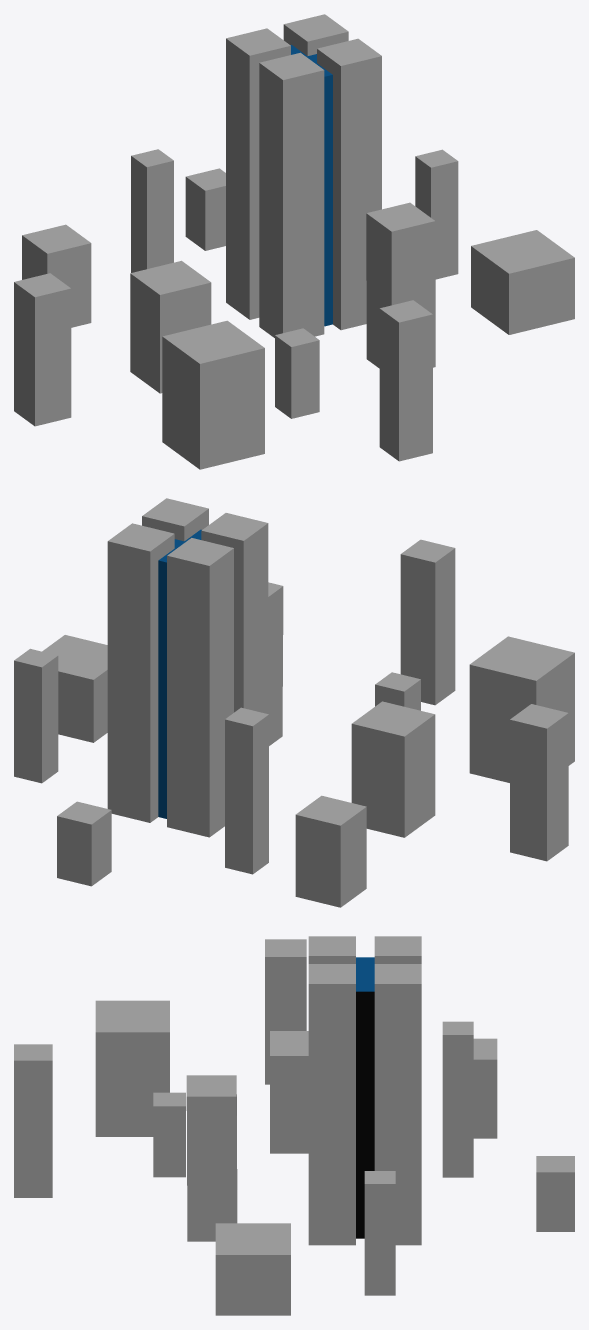
The model's file is Battery.fbx.
3 renders of one model, top to bottom at view 1: azimuth 30°, elevation 25°; view 2: azimuth 150°, elevation 25°; view 3: azimuth 270°, elevation 25°, orthographic. The views are drawn at different scales.
Parts seen in each view (by area): view 1: Server, Server6, Server8, Server9, Server1, Server4, Server2, Server3, Server7, Server10, Server5, Server11 (+1 smaller); view 2: Server, Server6, Server2, Server9, Server1, Server7, Server3, Server10, Server8, Server11, Heart, Server4 (+1 smaller); view 3: Server, Server6, Server4, Server8, Server1, Server3, Server2, Heart, Server9, Server10, Server11, Server5 (+1 smaller).
Boxes of the visible parts, x1,y1,x2,y2 form: Server: (226,14,381,337); Server6: (162,320,264,469); Server8: (471,230,574,334); Server9: (14,273,71,426); Server1: (379,300,432,461); Server4: (366,202,435,368); Server2: (130,260,211,393); Server3: (131,149,173,272); Server7: (22,224,91,327); Server10: (415,149,458,279); Server5: (275,328,319,418); Server11: (185,168,225,250); Server: (107,498,268,837); Server6: (469,636,574,782); Server2: (351,701,435,837); Server9: (510,704,568,861); Server1: (400,539,455,705); Server7: (295,795,366,907); Server3: (225,707,268,874); Server10: (14,648,58,783); Server8: (42,635,107,742); Server11: (57,801,111,886); Heart: (158,529,201,818); Server4: (268,582,283,745); Server: (308,936,421,1245); Server6: (95,1000,169,1136); Server4: (186,1075,237,1241); Server8: (215,1223,290,1315); Server1: (14,1044,52,1197); Server3: (442,1021,473,1177); Server2: (270,1031,308,1153); Heart: (356,957,374,1238); Server9: (265,939,306,1084); Server10: (364,1171,395,1295); Server11: (536,1156,574,1231); Server5: (153,1092,185,1177).
Bounding box in the file's own units: 1507 × 739 × 1437.
